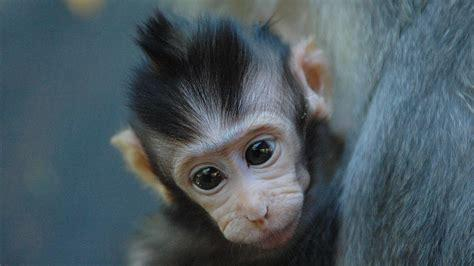monkey: (114, 14, 329, 266)
